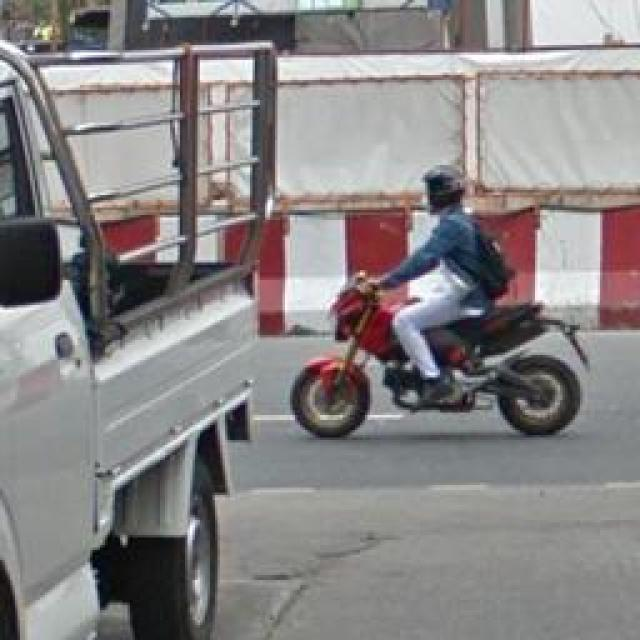motorbike: (292, 165, 581, 437)
